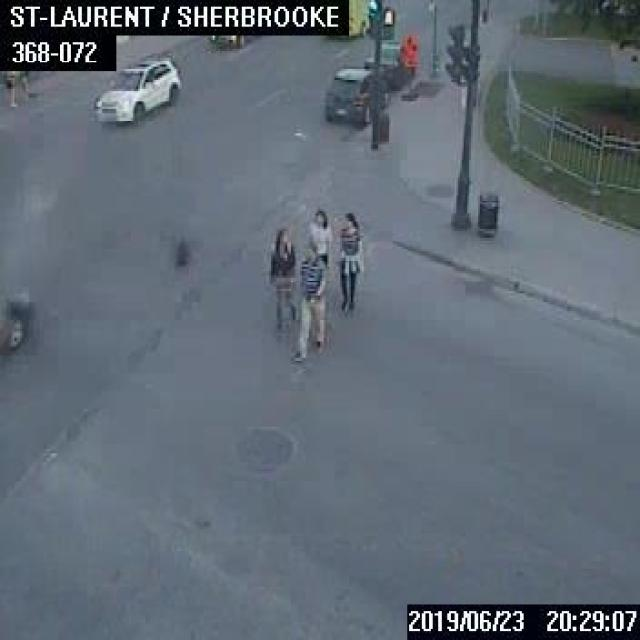construction: (400, 32, 417, 98)
pedestrian: (292, 243, 325, 361), (267, 226, 297, 335), (335, 211, 362, 311), (305, 206, 329, 279), (4, 69, 17, 104), (18, 68, 27, 103)
vehicle: (93, 56, 180, 124), (326, 65, 388, 125), (364, 38, 414, 87), (0, 289, 31, 351), (204, 31, 246, 51), (346, 0, 368, 36)
